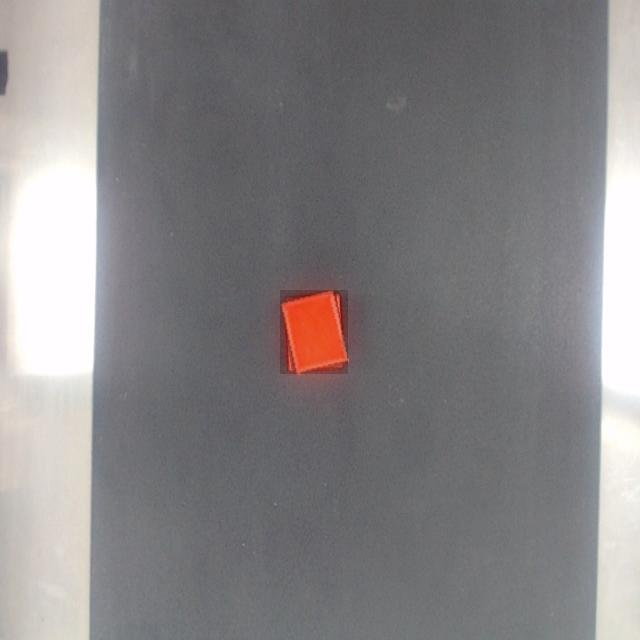Rojo: (281, 291, 348, 374)
